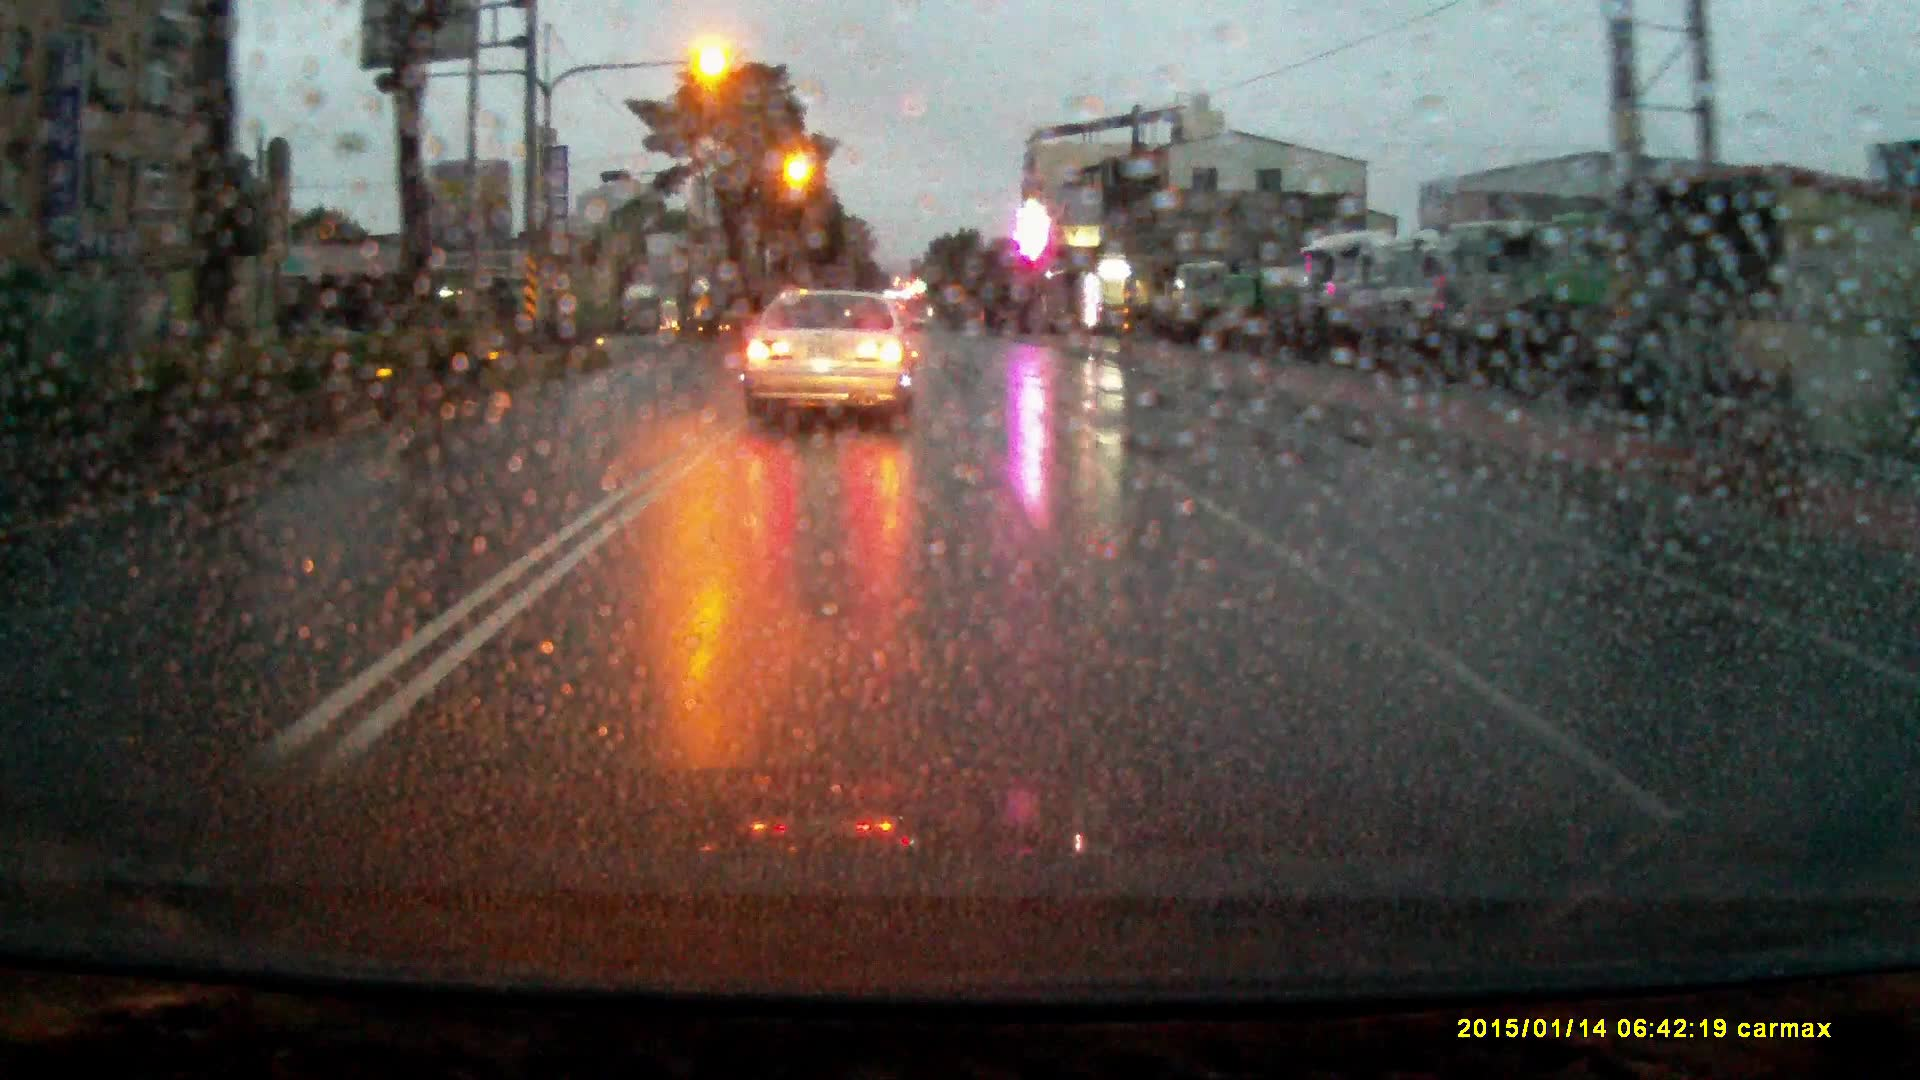vehicle: (742, 291, 922, 433), (1539, 210, 1654, 388), (1440, 222, 1556, 384), (1354, 231, 1455, 363), (1305, 237, 1394, 345), (1211, 266, 1317, 328), (1174, 260, 1236, 334), (622, 286, 679, 334)
